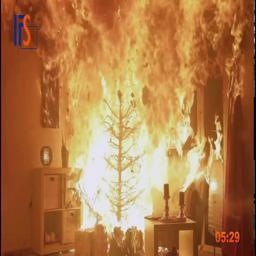fire: (4, 0, 239, 237)
